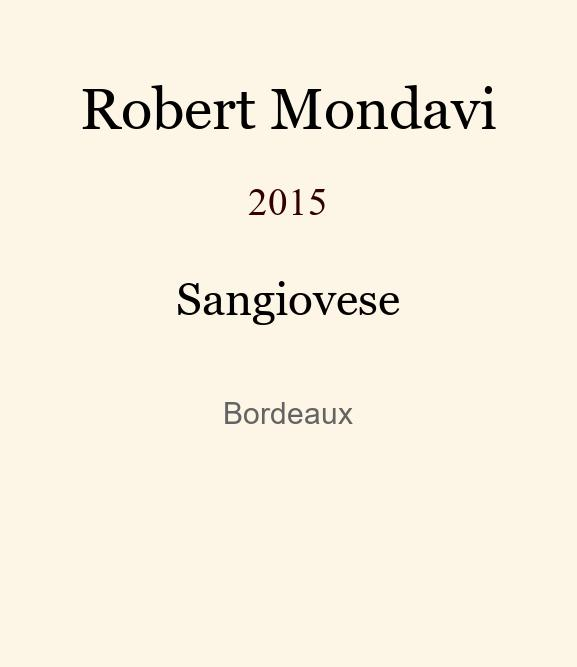brand: (80, 75, 497, 120)
region: (223, 396, 353, 418)
variety: (176, 272, 400, 316)
vintage: (248, 180, 328, 206)
